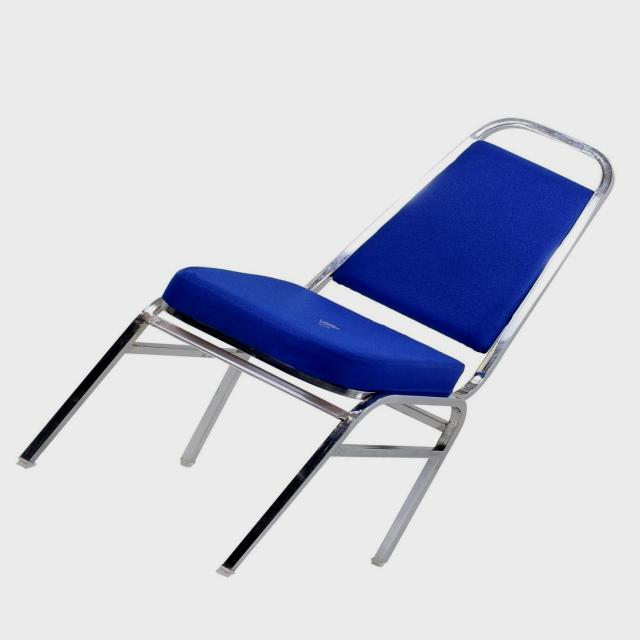Chair: (17, 110, 629, 582)
